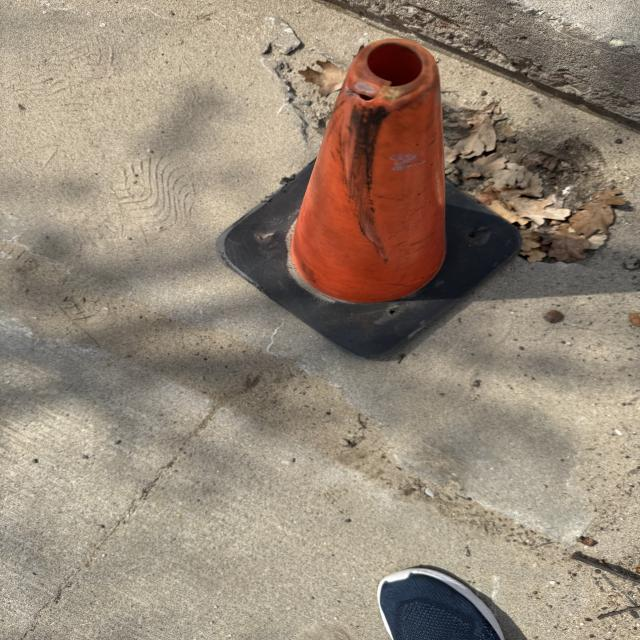Traffic Cone: (222, 31, 525, 360)
